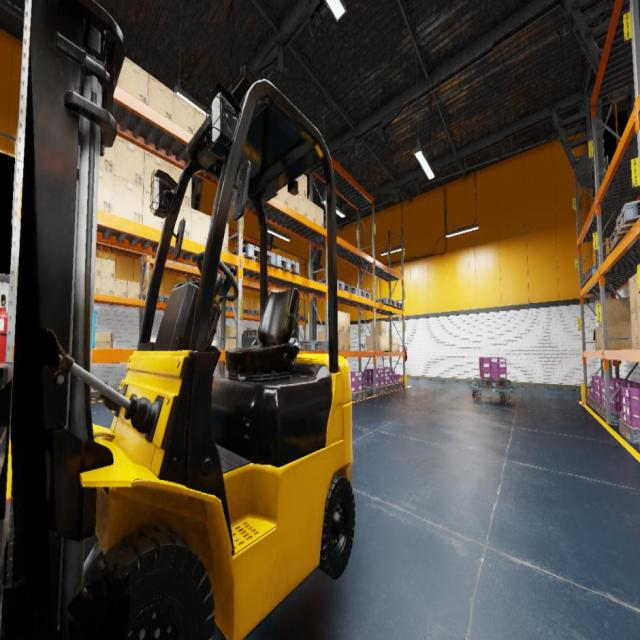box: (114, 135, 144, 187), (113, 176, 143, 223), (120, 56, 148, 105), (148, 74, 173, 121), (144, 150, 170, 192), (170, 162, 192, 208), (142, 188, 166, 230), (173, 92, 195, 135), (598, 297, 630, 325), (190, 208, 210, 245), (104, 41, 120, 86), (606, 323, 632, 350), (98, 170, 114, 213), (211, 216, 229, 252), (173, 204, 190, 240), (99, 138, 115, 175), (325, 311, 344, 331), (94, 331, 114, 348), (194, 108, 207, 134), (629, 274, 637, 314), (631, 312, 639, 348), (100, 276, 114, 296), (114, 278, 128, 297), (102, 259, 115, 278), (366, 336, 382, 350), (371, 320, 385, 336), (298, 193, 307, 217), (298, 174, 307, 198), (127, 281, 139, 299), (288, 192, 298, 212), (276, 185, 286, 205), (307, 198, 315, 222), (635, 272, 640, 310), (316, 205, 323, 228), (226, 326, 237, 339), (390, 337, 400, 351), (318, 330, 325, 349), (95, 257, 102, 276), (344, 332, 350, 352), (94, 276, 101, 293), (344, 313, 350, 332), (338, 331, 344, 350), (637, 311, 640, 348), (220, 339, 230, 349), (596, 326, 600, 350), (598, 326, 602, 350), (153, 256, 166, 261), (385, 336, 389, 352), (593, 329, 596, 350), (230, 339, 236, 349), (382, 336, 385, 352), (166, 260, 176, 264), (177, 262, 186, 266), (211, 340, 216, 346), (150, 338, 156, 342), (186, 265, 194, 268), (194, 267, 199, 270), (242, 327, 243, 335)
forklift: (0, 0, 355, 639)
pallets: (231, 244, 276, 267), (616, 200, 640, 237), (610, 222, 636, 251), (267, 255, 299, 274), (619, 418, 640, 444), (594, 400, 618, 418), (474, 378, 511, 388), (601, 406, 620, 424), (316, 279, 344, 290), (298, 341, 328, 351), (362, 385, 388, 395), (586, 264, 598, 282), (339, 284, 358, 295), (144, 295, 169, 303), (352, 290, 371, 300), (372, 298, 395, 306), (352, 390, 368, 401), (220, 305, 236, 313), (384, 384, 397, 392), (580, 274, 587, 288), (588, 397, 595, 410), (392, 382, 405, 389), (236, 308, 251, 314), (391, 301, 402, 309), (251, 310, 260, 315), (638, 433, 640, 450), (298, 316, 304, 321), (608, 249, 612, 256), (94, 437, 105, 439)
